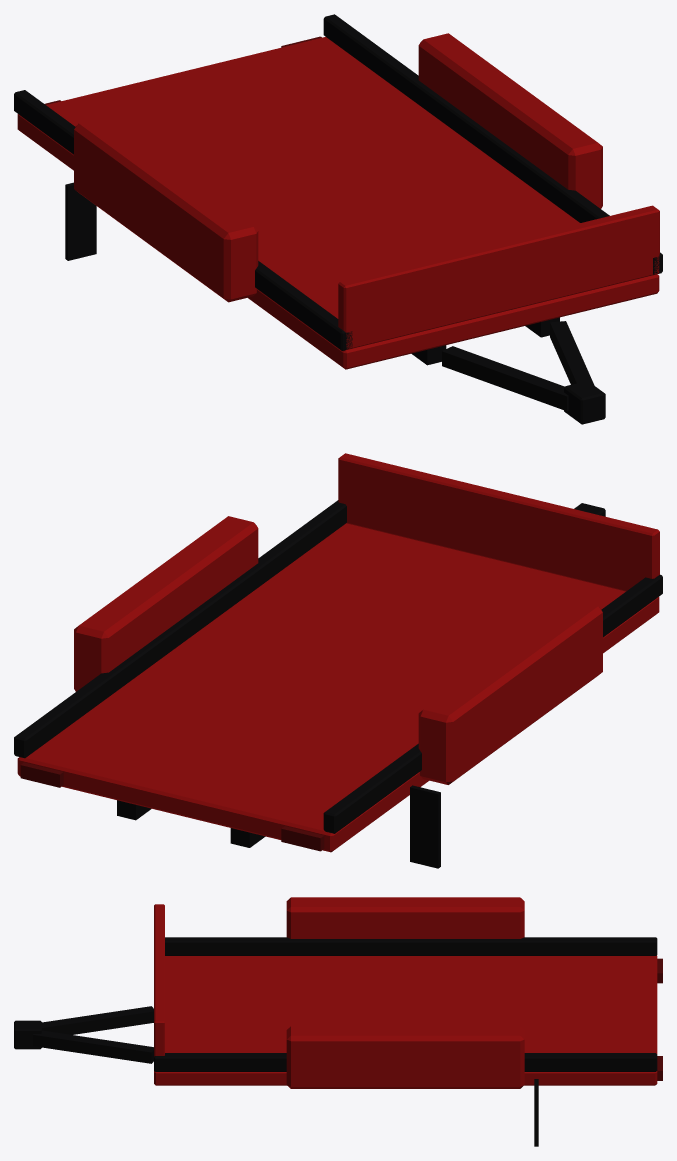
File: Car Trailer.obj
The picture shows the model from 3 angles, top to bottom: view 1: azimuth 30°, elevation 25°; view 2: azimuth 150°, elevation 25°; view 3: azimuth 270°, elevation 25°; orthographic projection. The views are drawn at different scales.
Parts seen in each view (by area): view 1: Body, Trim; view 2: Body, Trim, Taillights; view 3: Body, Trim.
Boxes of the visible parts, bbox=[...] form: Body: bbox=[17, 33, 659, 369]; Trim: bbox=[14, 14, 662, 424]; Body: bbox=[17, 453, 659, 852]; Trim: bbox=[14, 500, 662, 868]; Taillights: bbox=[20, 762, 324, 851]; Body: bbox=[154, 897, 657, 1088]; Trim: bbox=[14, 937, 657, 1146].
Size of the model in its own units: 2.4 by 0.9 by 4.64.
